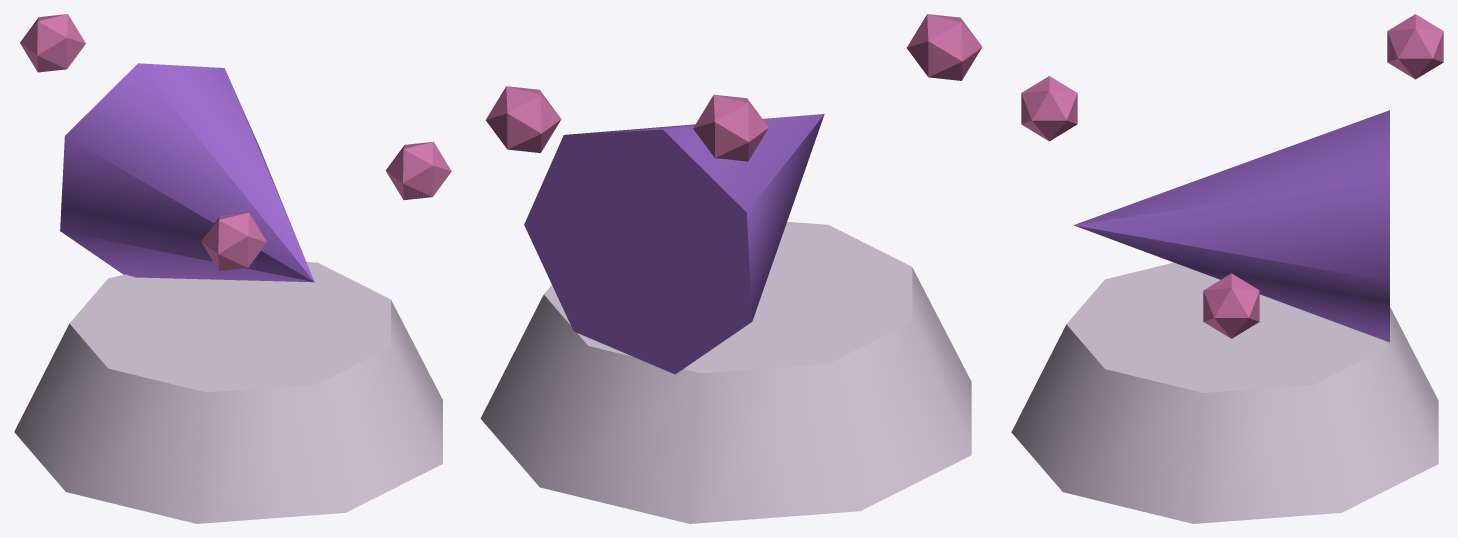
The model's file is blacksmith_memory.glb.
3 views of the same model, side by side, from view 1: azimuth 30°, elevation 25°; view 2: azimuth 150°, elevation 25°; view 3: azimuth 270°, elevation 25° (orthographic). The views are drawn at different scales.
Visible parts, largest first — view 1: memory_pedestal, memory_symbol_blacksmith, memory_star_2, memory_star_1, memory_star_0; view 2: memory_pedestal, memory_symbol_blacksmith, memory_star_0, memory_star_1, memory_star_2; view 3: memory_pedestal, memory_symbol_blacksmith, memory_star_0, memory_star_1, memory_star_2.
Boxes of the visible parts, x1,y1,x2,y2 form: memory_pedestal: (14, 262, 442, 523); memory_symbol_blacksmith: (60, 63, 314, 282); memory_star_2: (20, 14, 85, 72); memory_star_1: (201, 212, 266, 270); memory_star_0: (385, 141, 451, 199); memory_pedestal: (480, 221, 971, 523); memory_symbol_blacksmith: (524, 114, 824, 374); memory_star_0: (486, 86, 561, 152); memory_star_1: (907, 14, 982, 80); memory_star_2: (693, 94, 768, 161); memory_pedestal: (1011, 262, 1438, 523); memory_symbol_blacksmith: (1074, 110, 1389, 342); memory_star_0: (1203, 273, 1259, 338); memory_star_1: (1021, 76, 1077, 141); memory_star_2: (1387, 14, 1443, 79).
Size of what is drawn, in the model's own units: 2.48 by 2.21 by 2.36.
